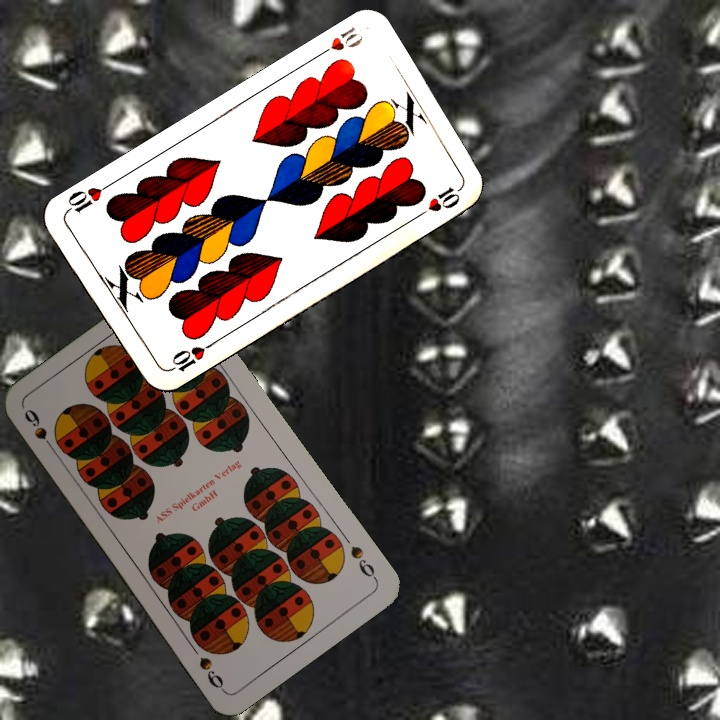H10: (311, 22, 367, 61), (162, 338, 216, 375)
S9: (19, 404, 60, 457), (346, 542, 380, 583)
